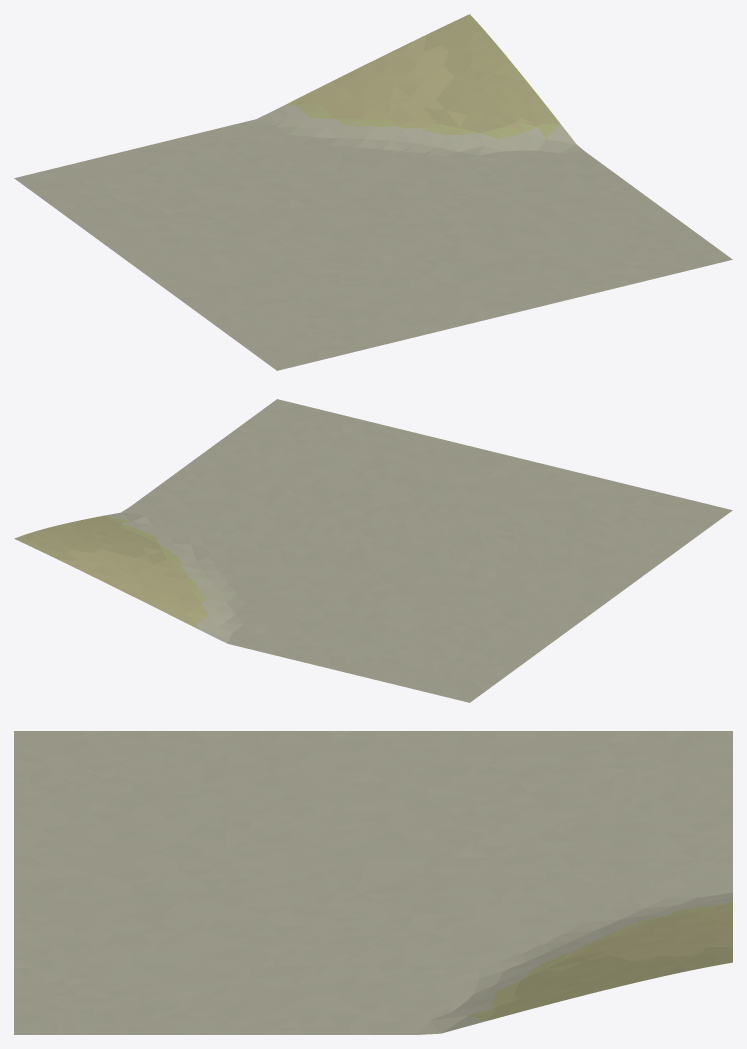
The model's file is Ground_-5_0.glb.
3 views of the same model, one above another, from view 1: azimuth 30°, elevation 25°; view 2: azimuth 150°, elevation 25°; view 3: azimuth 270°, elevation 25° (orthographic). The views are drawn at different scales.
Parts seen in each view (by area): view 1: Ground_-5_0; view 2: Ground_-5_0; view 3: Ground_-5_0.
Part boxes in pixels (x1,y1,x2,y2): Ground_-5_0: (14,14,732,370); Ground_-5_0: (14,399,732,702); Ground_-5_0: (14,731,732,1034).
Bounding box in the file's own units: 768 × 85.32 × 768.
